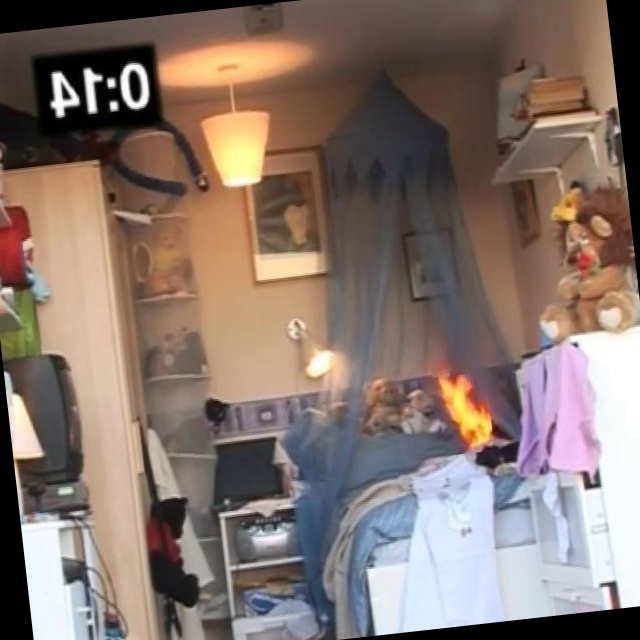fire: (401, 357, 519, 466)
